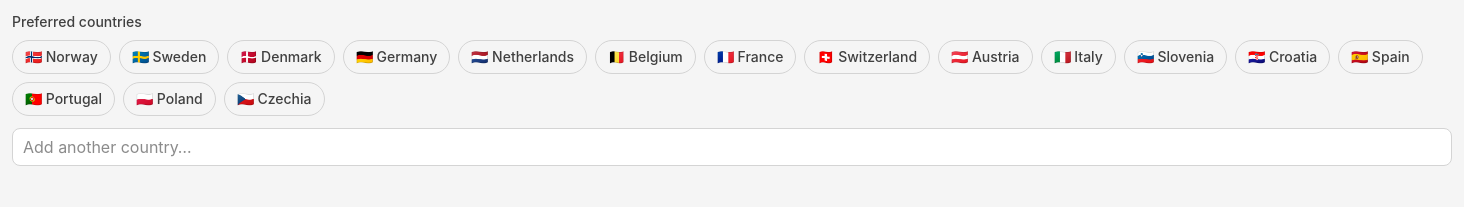
Test case: ChipMultiSelect country search › says so plainly when nothing matches
Type "zzzzzz" into the search field with test id "country-search" at [732, 147], box [12,128,1452,166]
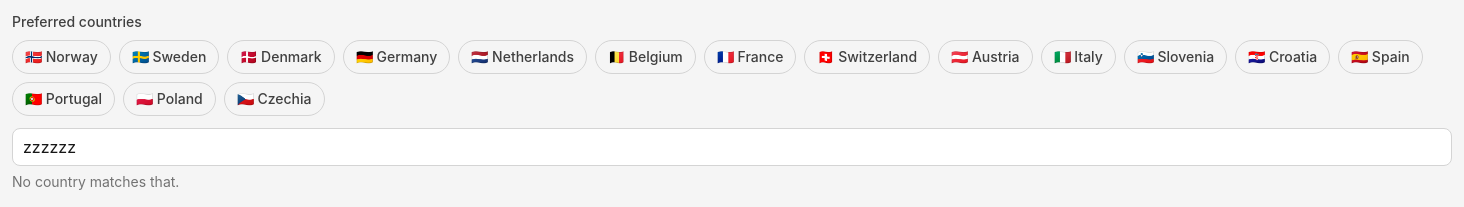
Check: the text with test id "country-search-empty" reads "No country matches that.", box [12,173,179,190]
